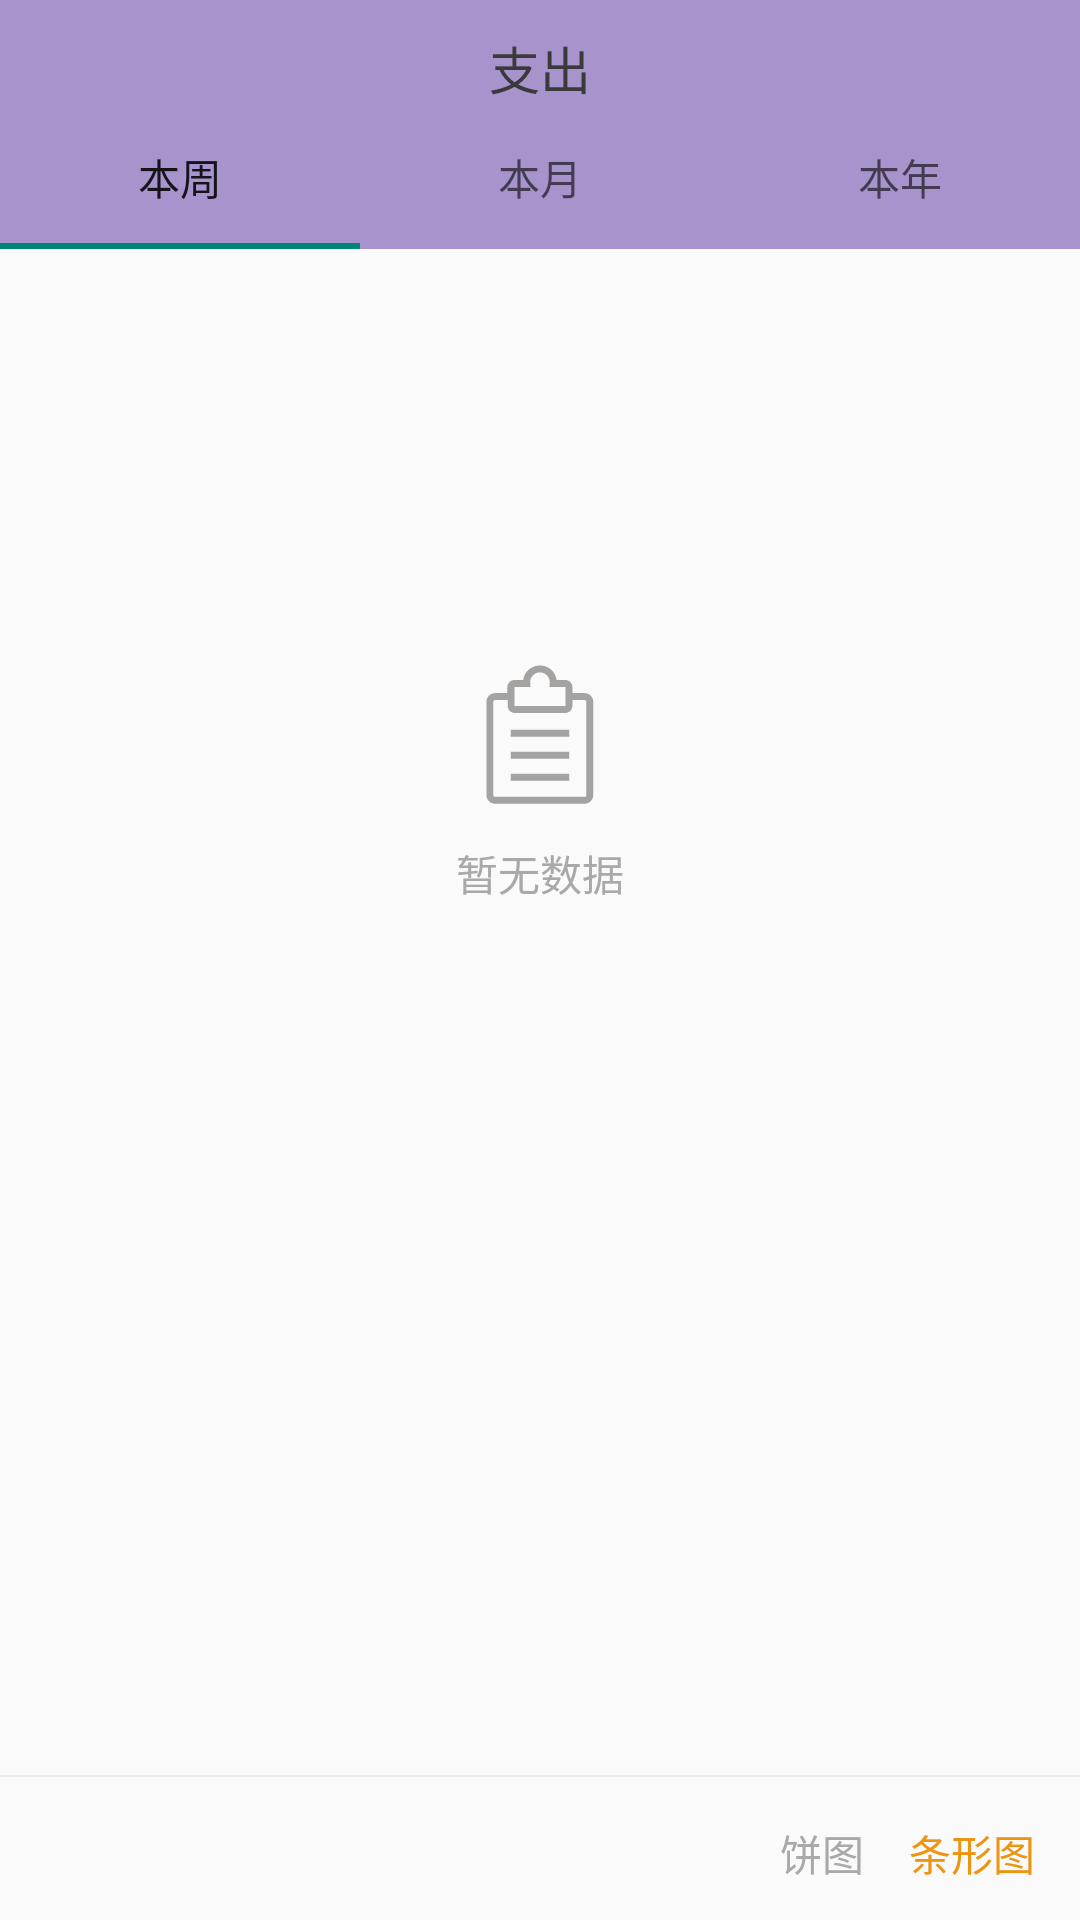

Where icons sit on this 1080 x 1920 app screen, as bbox(x1, y1, x2, y2):
no data: bbox(486, 665, 593, 804)
